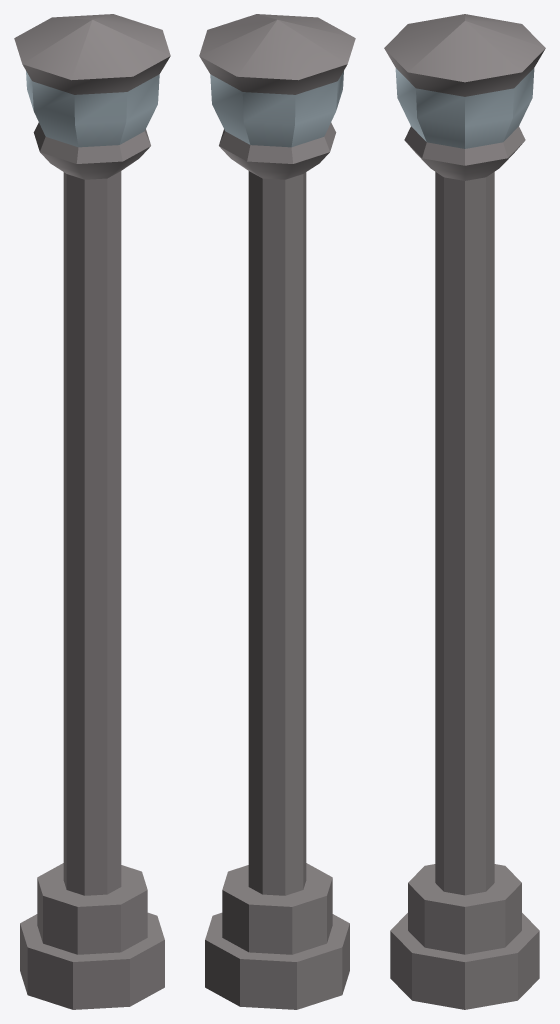
File: Poste.fbx
The picture shows the model from 3 angles, left to right: view 1: azimuth 30°, elevation 25°; view 2: azimuth 150°, elevation 25°; view 3: azimuth 270°, elevation 25°; orthographic projection.
Visible parts, largest first — view 1: Poste; view 2: Poste; view 3: Poste.
Boxes of the visible parts, bbox=[...] form: Poste: bbox=[14, 14, 170, 1009]; Poste: bbox=[199, 14, 355, 1009]; Poste: bbox=[384, 14, 545, 1009].
Size of the model in its own units: 68.42 by 447 by 68.42.
